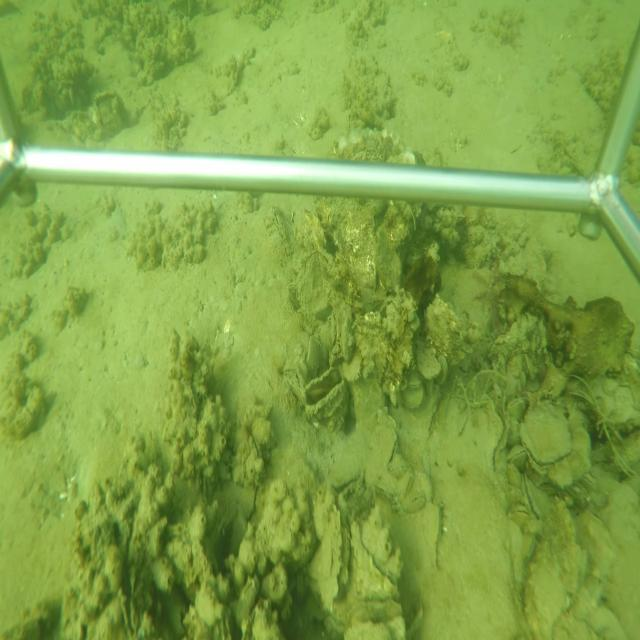Oyster-Closed: (307, 505, 343, 615), (520, 402, 575, 471), (351, 529, 398, 609), (366, 424, 401, 490), (421, 501, 445, 568), (414, 340, 441, 383), (402, 484, 430, 518), (394, 465, 416, 508), (507, 501, 533, 527), (506, 397, 527, 420), (505, 447, 528, 463)
Oyster-Indeterminate: (522, 523, 589, 635), (340, 315, 354, 365)
Oyster-Open: (480, 381, 511, 489), (304, 368, 346, 420), (521, 472, 550, 522), (327, 457, 361, 499), (117, 571, 139, 635)
